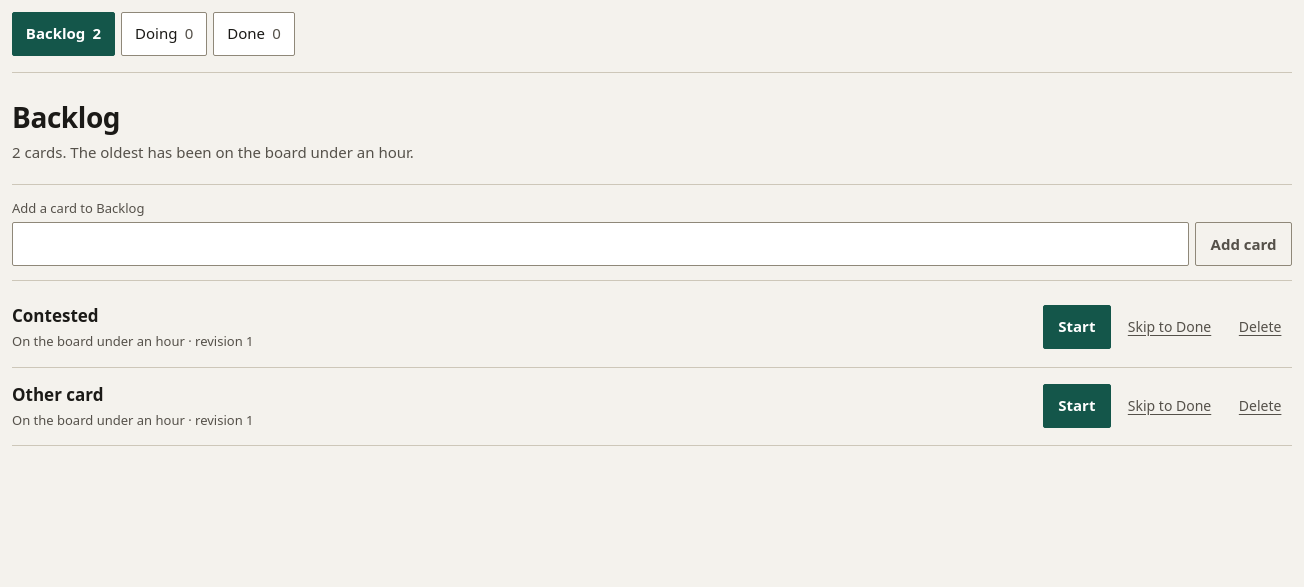
Test: Board › keeps the stale-move guidance while a different card is deleted successfully
This screenshot has width=1304, height=587.
Expected: the text "Contested" is shown, [12, 304, 99, 327]
Click the button named "Start: move \"Contested\" to Doing".
click(1077, 327)  # box [1043, 305, 1111, 349]
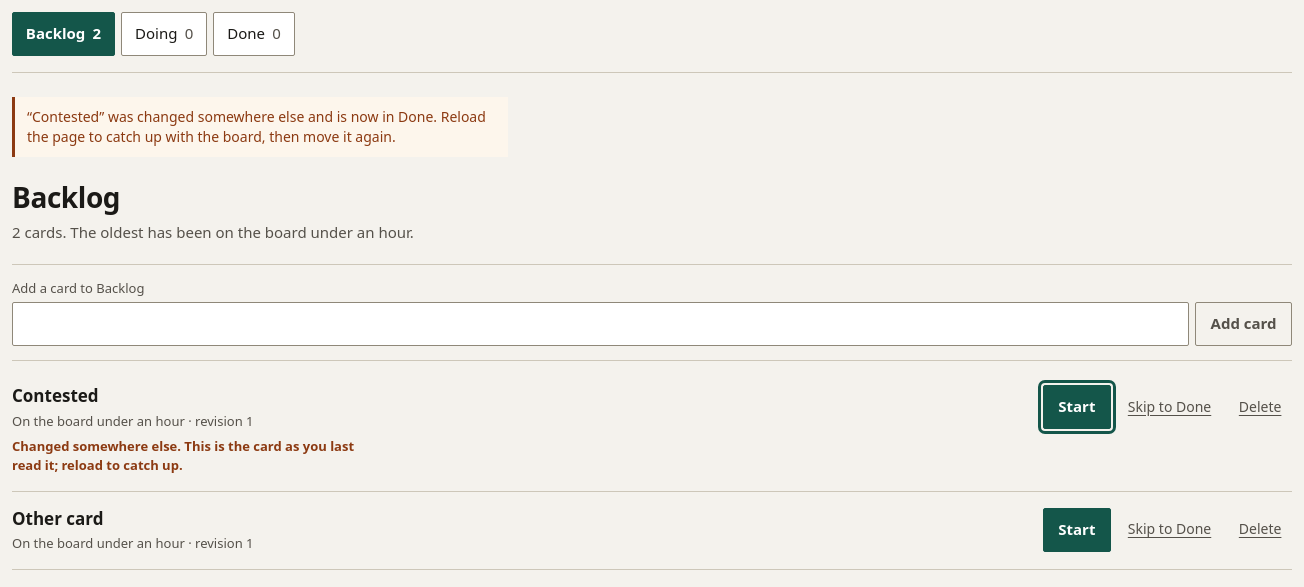
Expected: the message is shown, [12, 97, 508, 157]
Click the button named "Delete \"Other card\"".
click(1260, 530)  # box [1228, 508, 1292, 552]
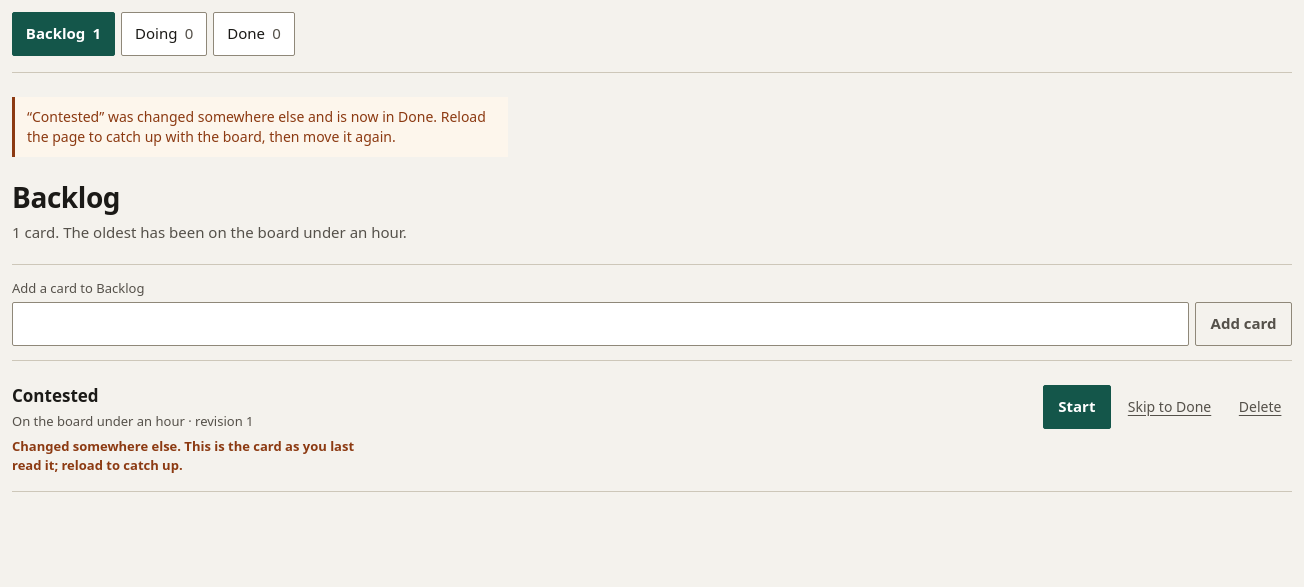
Expected: the message shows "Contested", [27, 107, 486, 146]
Expected: the message shows "Reload", [27, 107, 486, 146]
Expected: the text "Other card" is gone
